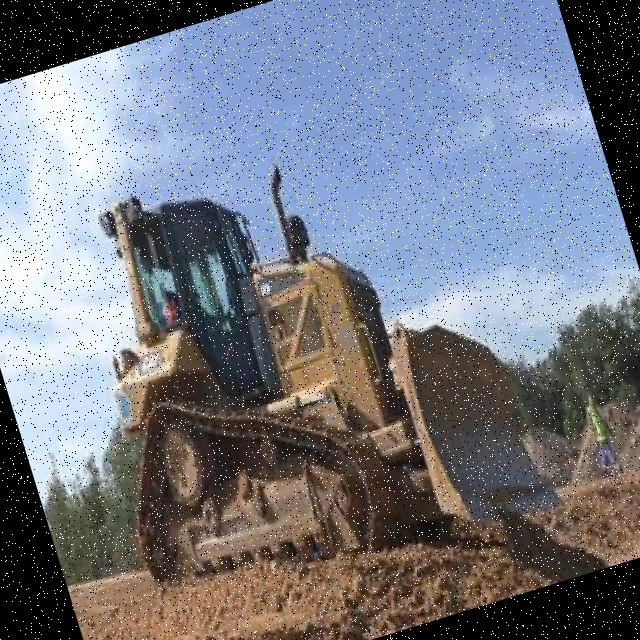Bulldozer: (8, 31, 631, 640)
